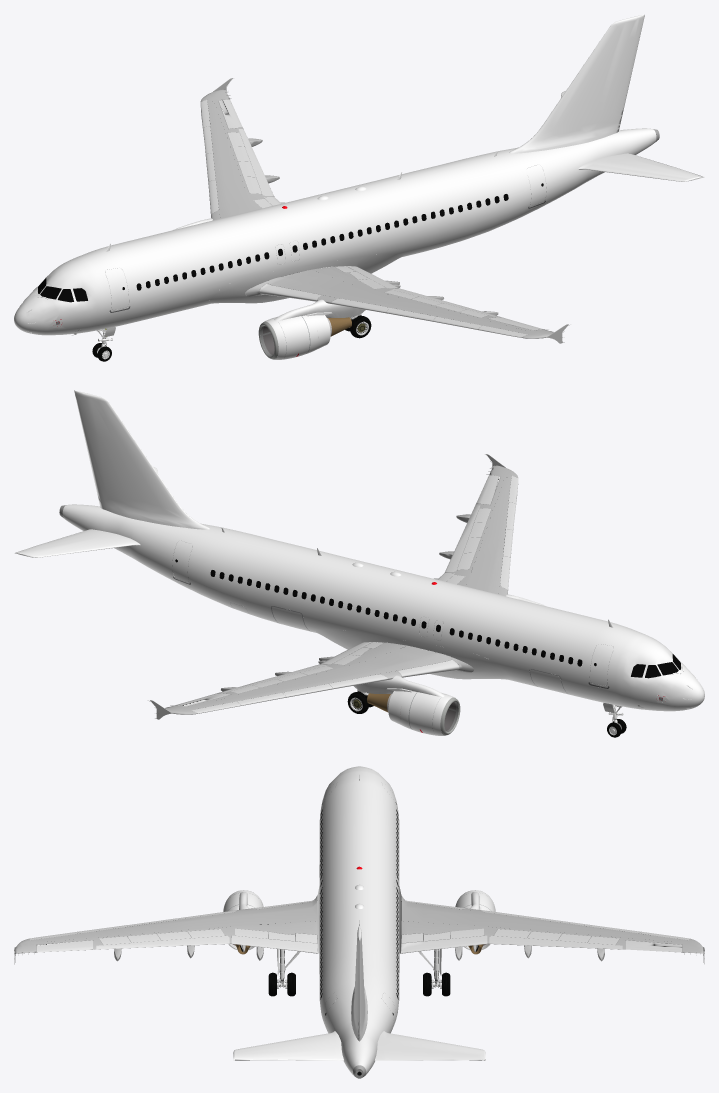
The picture shows the model from 3 angles, top to bottom: view 1: azimuth 30°, elevation 25°; view 2: azimuth 150°, elevation 25°; view 3: azimuth 270°, elevation 25°; orthographic projection. The views are drawn at different scales.
Parts seen in each view (by area): view 1: Object_4; view 2: Object_4; view 3: Object_4, gear_mr, gear_ml.
Boxes of the visible parts, bbox=[...] form: Object_4: bbox=[14, 14, 704, 359]; Object_4: bbox=[14, 390, 704, 735]; Object_4: bbox=[14, 766, 704, 1078]; gear_mr: bbox=[268, 949, 322, 996]; gear_ml: bbox=[420, 949, 450, 996].
Size of the model in its own units: 179 by 56.75 by 163.
1 material, 1 textured.
